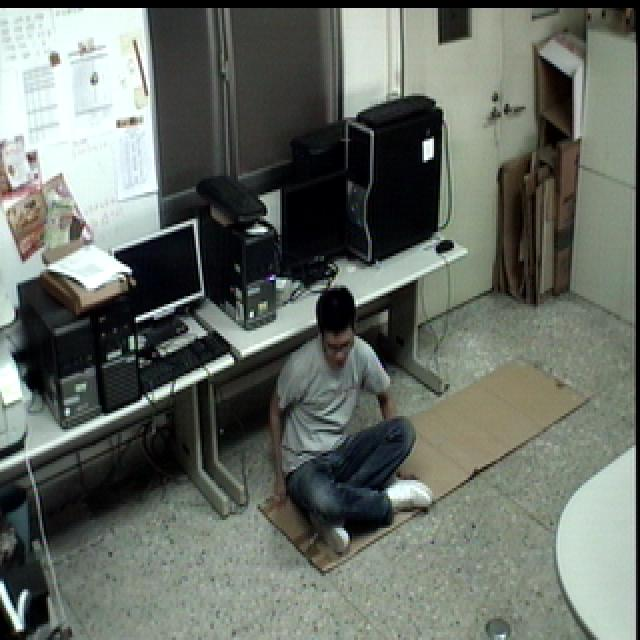sit: (266, 285, 439, 556)
